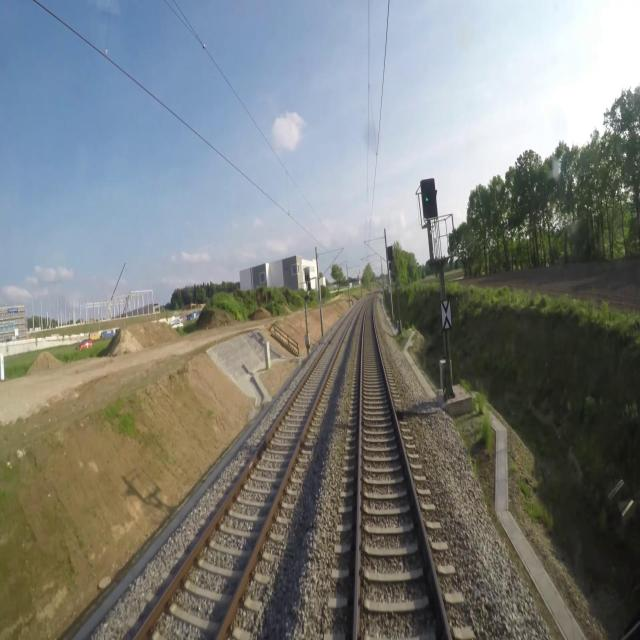rail-track: (138, 306, 357, 639), (357, 294, 447, 639)
